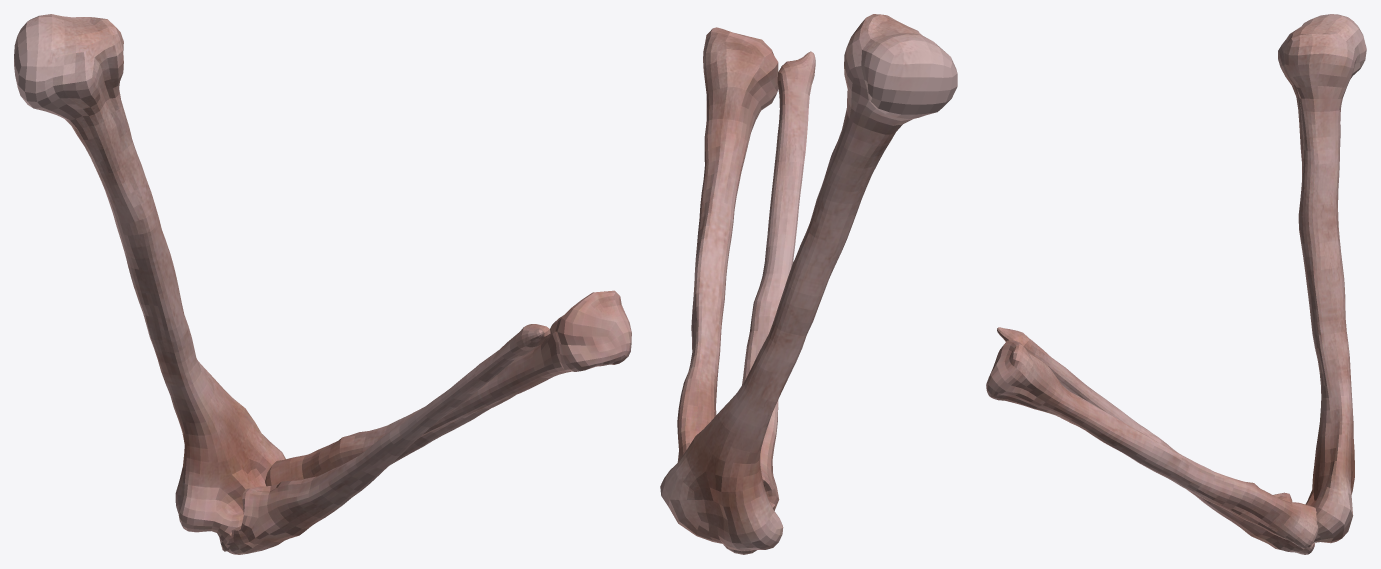
File: left_humerus_ulna_radius.obj
The picture shows the model from 3 angles, left to right: view 1: azimuth 30°, elevation 25°; view 2: azimuth 150°, elevation 25°; view 3: azimuth 270°, elevation 25°; orthographic projection. The views are drawn at different scales.
Visible parts, largest first — view 1: left_humerus_ulna_radius; view 2: left_humerus_ulna_radius; view 3: left_humerus_ulna_radius.
Part boxes in pixels (box(x1,y1,x2,y2)): left_humerus_ulna_radius: box(14, 14, 631, 554); left_humerus_ulna_radius: box(660, 14, 957, 554); left_humerus_ulna_radius: box(986, 14, 1366, 554).
Bounding box in the file's own units: 1.9 × 2.41 × 1.79.
